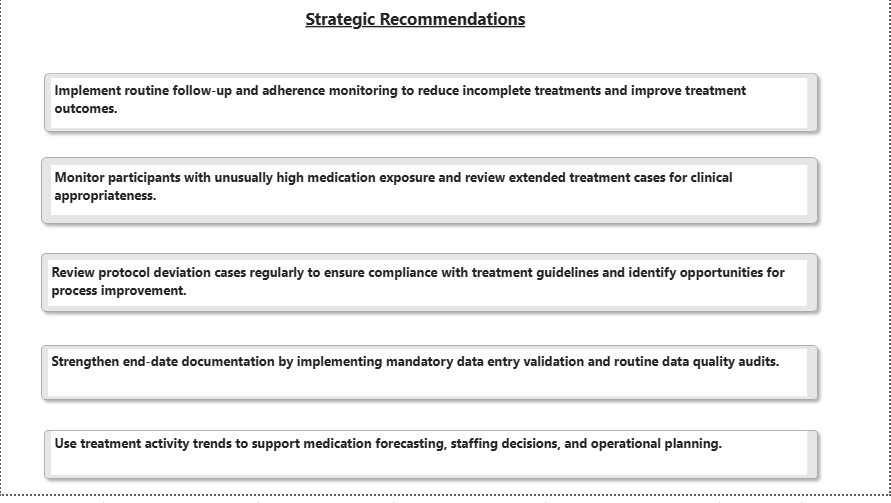

What the dashboard file says about the page in this screenshot:
{"tool":"powerbi","page":{"name":"Recommendations","canvas":[1280,720],"ordinal":6},"visuals":[{"type":"textbox","box":[433.5,13,424.8,60.5],"z":0,"group":"g1"},{"type":"shape","box":[53.8,105.9,1132.2,102.5],"z":1000,"group":"g1"},{"type":"textbox","box":[150,523,300,197],"z":2000,"group":"g1"},{"type":"textbox","box":[72,121,1088.6,72],"z":3000,"group":"g1"},{"type":"shape","box":[49,226.1,1136.2,113.8],"z":4000,"group":"g1"},{"type":"textbox","box":[72.3,247,1088.5,72.2],"z":5000,"group":"g1"},{"type":"shape","box":[49,364.4,1136.2,102.2],"z":6000,"group":"g1"},{"type":"textbox","box":[67.7,383.1,1093,66.2],"z":7000,"group":"g1"},{"type":"shape","box":[49,496.8,1136.2,96.5],"z":8000,"group":"g1"},{"type":"textbox","box":[67.7,511.2,1093,67.7],"z":9000,"group":"g1"},{"type":"group","id":"g1","title":"Group 1","box":[49,13,1137,707],"z":9003},{"type":"shape","box":[53.3,619.2,1131.8,87.8],"z":10000,"group":"g1"},{"type":"textbox","box":[72,629.3,1088.6,63.4],"z":11000,"group":"g1"}]}

Visuals, with their boxes in screenshot pixels (x1, y1, x2, y2), scaled from the page's 1280x720 canvas onto the 891x503 screenshot:
textbox: {"left": 302, "top": 9, "right": 597, "bottom": 51}
shape: {"left": 37, "top": 74, "right": 826, "bottom": 146}
textbox: {"left": 104, "top": 365, "right": 313, "bottom": 502}
textbox: {"left": 50, "top": 85, "right": 808, "bottom": 135}
shape: {"left": 34, "top": 158, "right": 825, "bottom": 237}
textbox: {"left": 50, "top": 173, "right": 808, "bottom": 223}
shape: {"left": 34, "top": 255, "right": 825, "bottom": 326}
textbox: {"left": 47, "top": 268, "right": 808, "bottom": 314}
shape: {"left": 34, "top": 347, "right": 825, "bottom": 414}
textbox: {"left": 47, "top": 357, "right": 808, "bottom": 404}
"Group 1" group: {"left": 34, "top": 9, "right": 826, "bottom": 502}
shape: {"left": 37, "top": 433, "right": 825, "bottom": 494}
textbox: {"left": 50, "top": 440, "right": 808, "bottom": 484}
